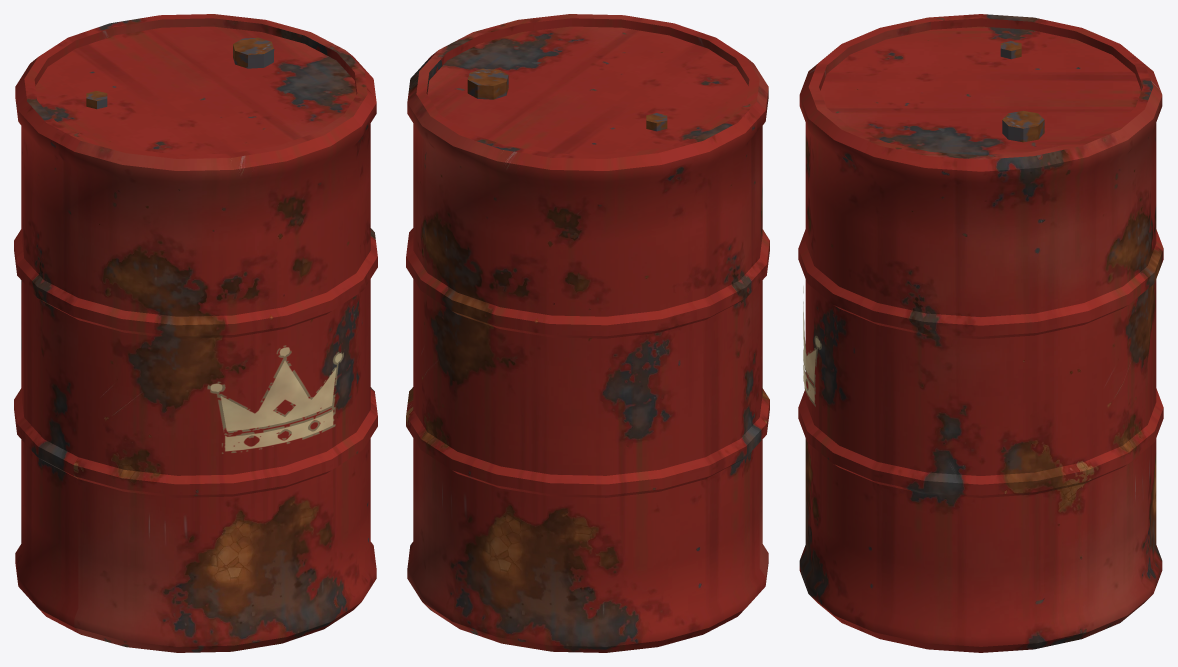
File: Metal_Barrel.glb
3 views of the same model, side by side, from view 1: azimuth 30°, elevation 25°; view 2: azimuth 150°, elevation 25°; view 3: azimuth 270°, elevation 25° (orthographic).
Visible parts, largest first — view 1: Metal_Barrel; view 2: Metal_Barrel; view 3: Metal_Barrel.
Part boxes in pixels (x1=…): Metal_Barrel: x1=14, y1=14, x2=377, y2=652; Metal_Barrel: x1=406, y1=14, x2=769, y2=652; Metal_Barrel: x1=798, y1=14, x2=1163, y2=652.
Bounding box in the file's own units: 0.604 × 0.91 × 0.604.
3 materials, 3 textured.
